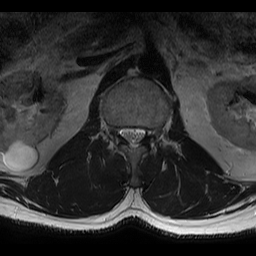CCS_normal: (129, 120, 137, 154)
LFS_stenosis: (145, 121, 155, 144)
LLS_normal: (137, 120, 145, 149)
RFS_stenosis: (112, 120, 120, 141)
RLS_normal: (120, 120, 129, 146)
